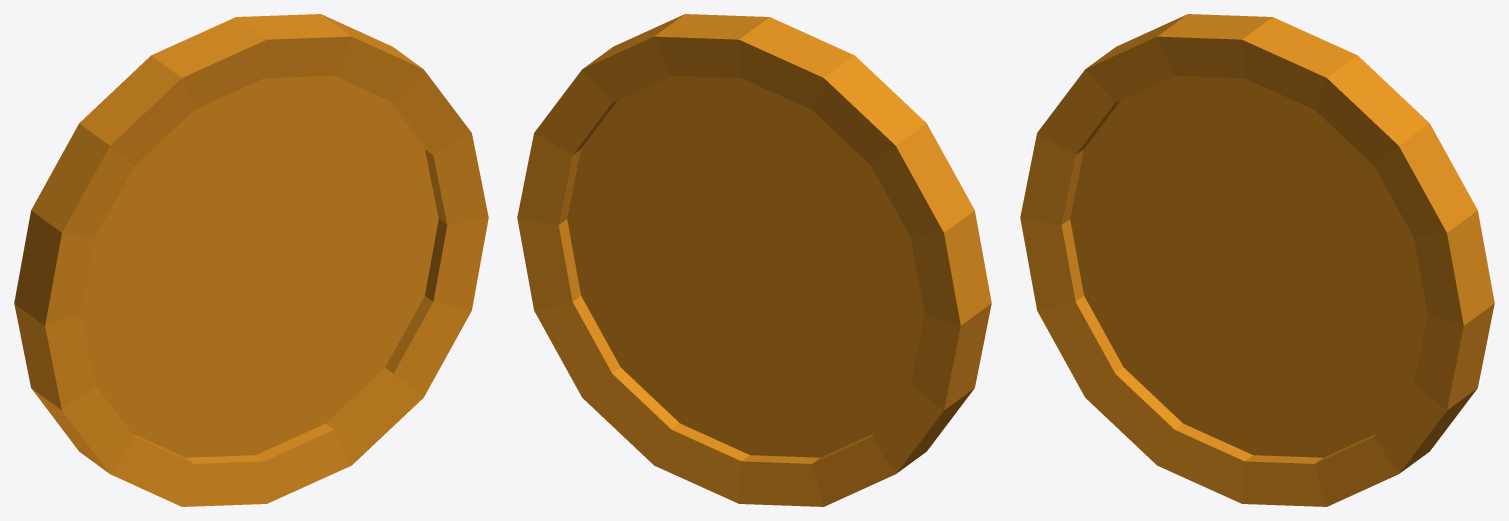
File: CoolCoin.fbx
3 renders of one model, left to right at view 1: azimuth 30°, elevation 25°; view 2: azimuth 150°, elevation 25°; view 3: azimuth 330°, elevation 25°, orthographic.
Visible parts, largest first — view 1: Cylinder.001; view 2: Cylinder.001; view 3: Cylinder.001.
Boxes of the visible parts, left/top/right/bottom form: Cylinder.001: left=14, top=14, right=488, bottom=506; Cylinder.001: left=517, top=14, right=991, bottom=506; Cylinder.001: left=1020, top=14, right=1494, bottom=506.
Size of the model in its own units: 100 by 100 by 12.07.
